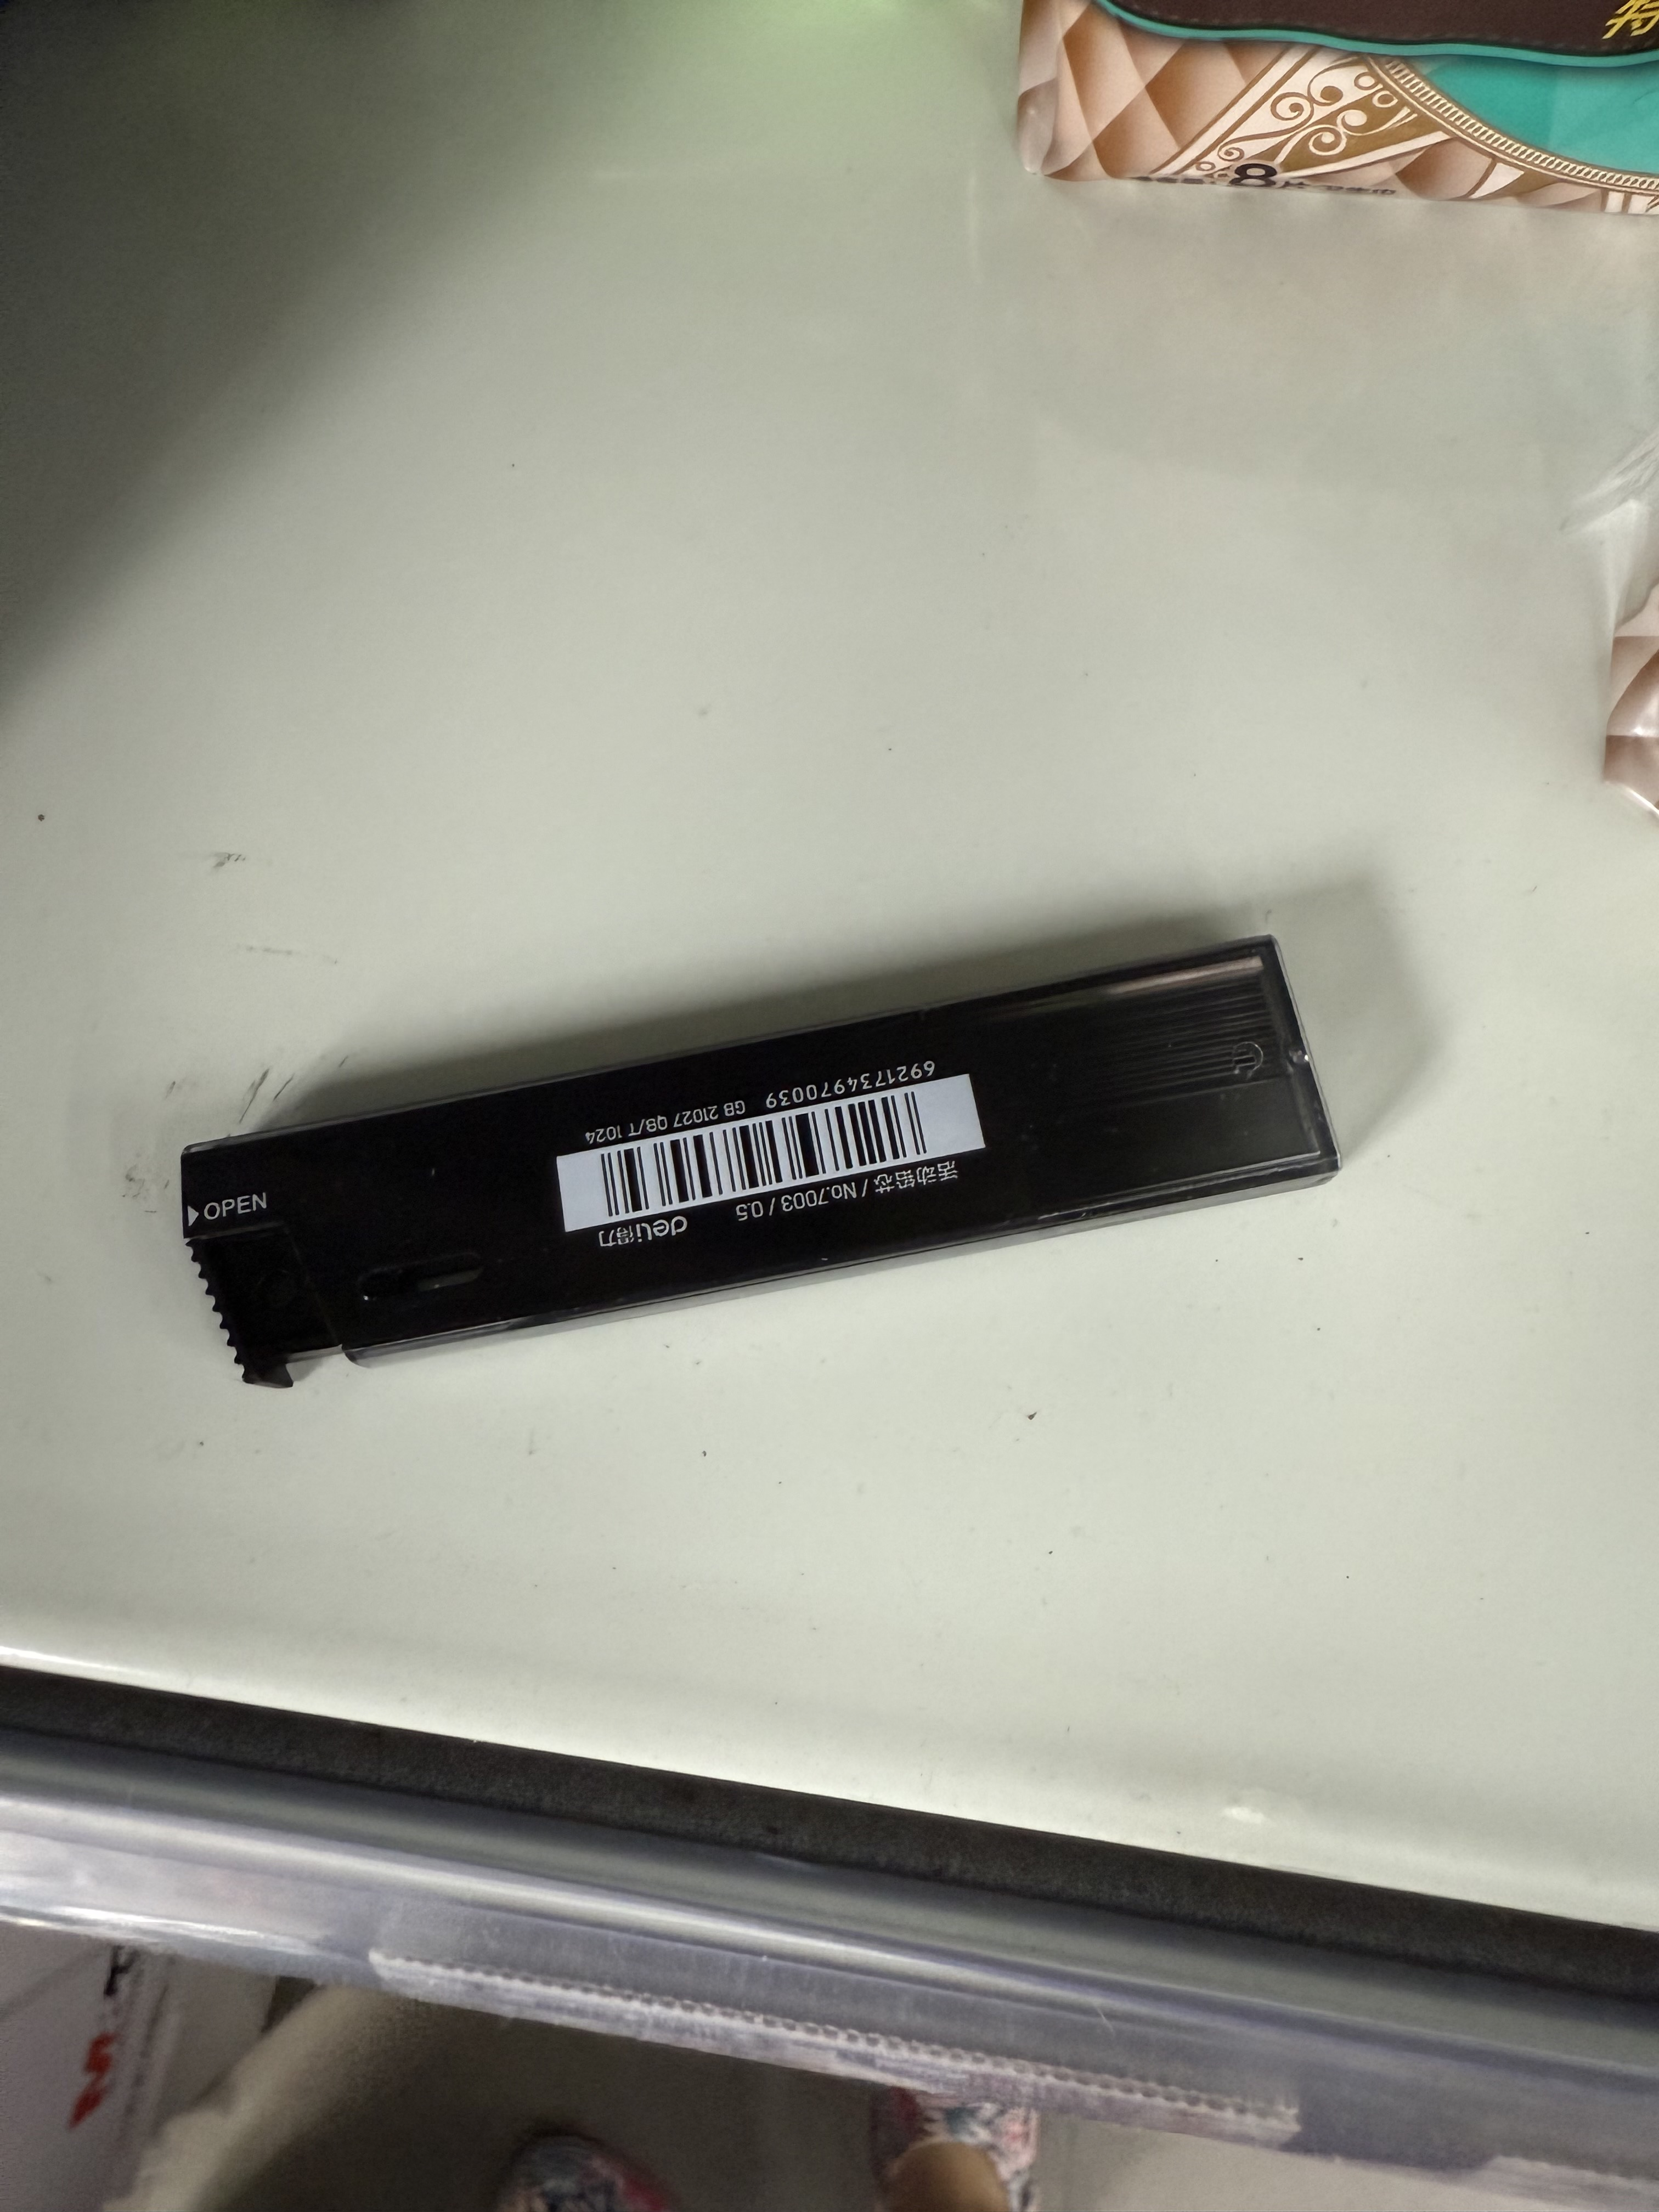bar: (592, 1087, 934, 1219)
